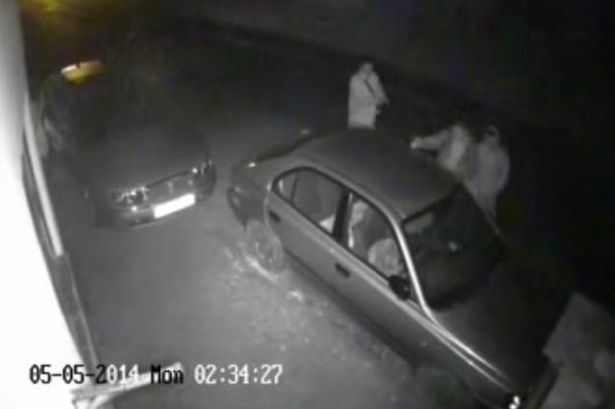person: (406, 101, 482, 200), (463, 112, 517, 229), (348, 38, 391, 153)
